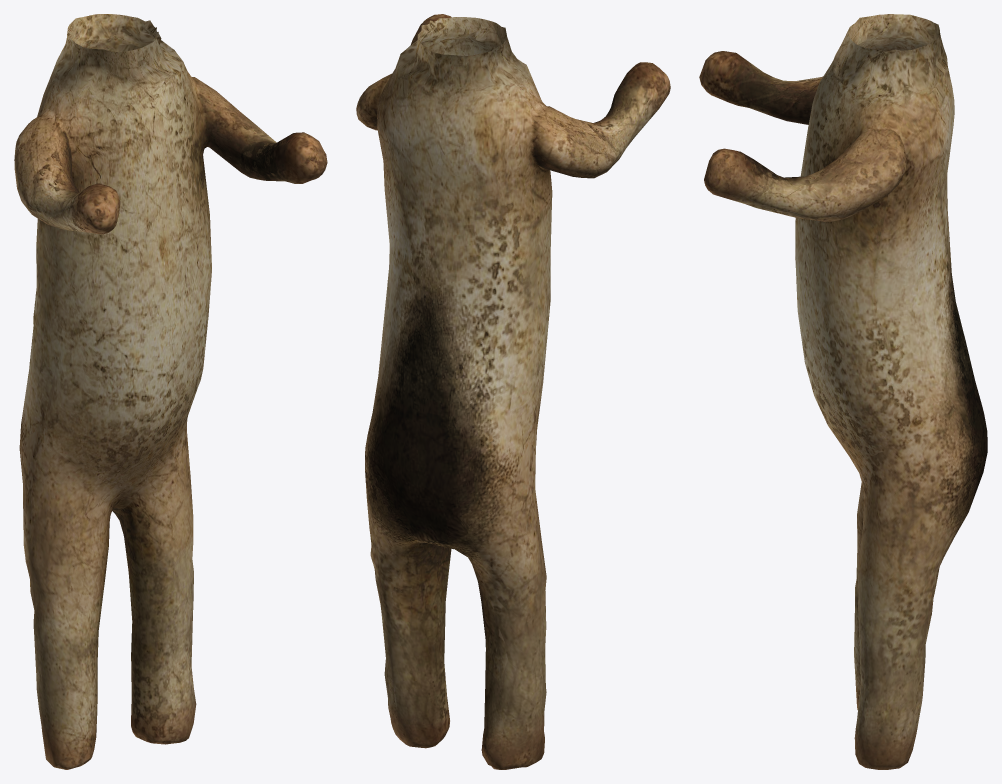
File: 173body.fbx
3 views of the same model, side by side, from view 1: azimuth 30°, elevation 25°; view 2: azimuth 150°, elevation 25°; view 3: azimuth 270°, elevation 25° (orthographic).
Visible parts, largest first — view 1: Scene_Root; view 2: Scene_Root; view 3: Scene_Root.
Boxes of the visible parts, box(x1,y1,x2,y2) form: Scene_Root: box(14, 14, 327, 769); Scene_Root: box(356, 14, 670, 769); Scene_Root: box(699, 14, 987, 769).
Bounding box in the file's own units: 5.47 × 15.36 × 5.65.
